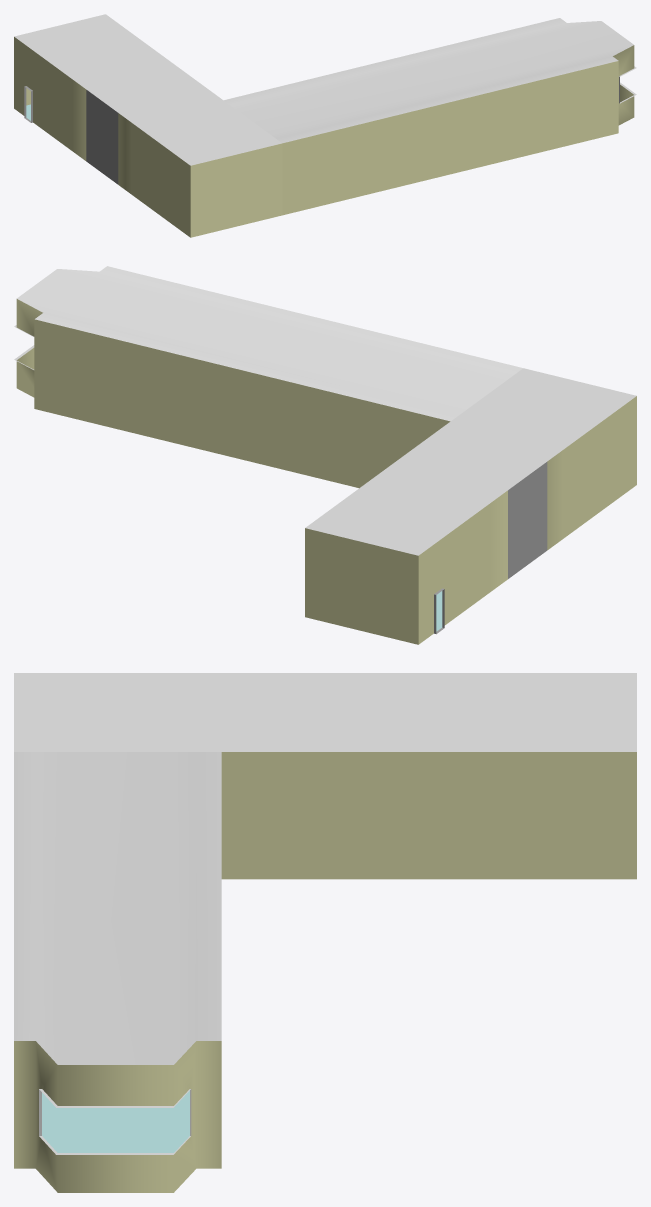
File: revised_kitchen_tester.fbx
3 renders of one model, top to bottom at view 1: azimuth 30°, elevation 25°; view 2: azimuth 150°, elevation 25°; view 3: azimuth 270°, elevation 25°, orthographic. The views are drawn at different scales.
Parts seen in each view (by area): view 1: pCube121; view 2: pCube121; view 3: pCube121.
Part boxes in pixels (<box>): pCube121: <box>14,14,636,237</box>; pCube121: <box>14,266,636,644</box>; pCube121: <box>14,673,636,1192</box>.
Bounding box in the file's own units: 30.1 × 4.53 × 20.
